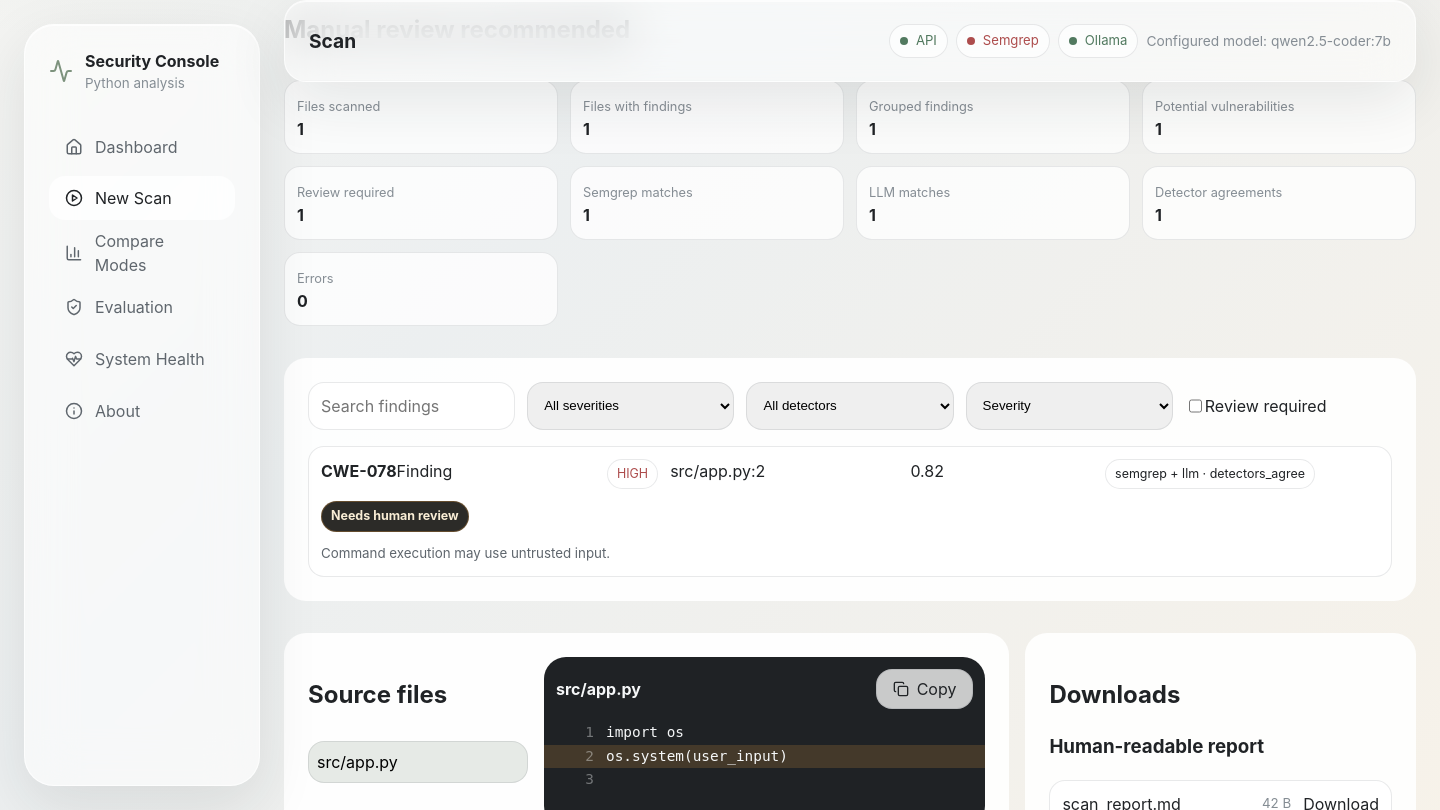
Test: Scan progress and results › fetches completed results, filters findings, opens drawer, and shows artifacts/source safely
The image size is (1440, 810).
(page scrolled)
Expected: the heading "Manual review recommended" is shown, [284,14,630,44]
Expected: the text "Grouped findings" is shown, [869,98,974,114]
Type "command" into the field labelled "Search findings" at [412, 406], box [308,382,515,430]
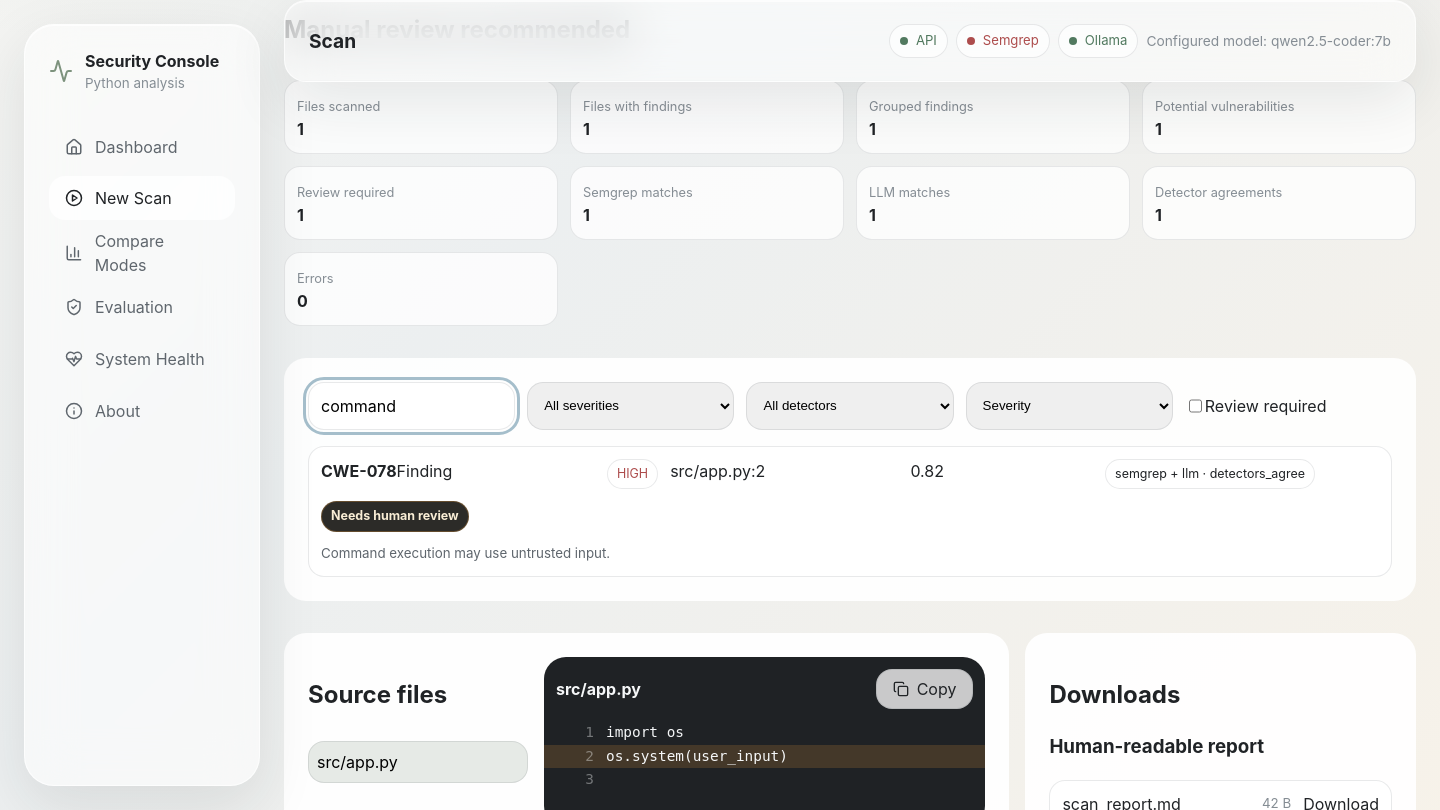
Click the button "CWE-078" at [359, 471], box [308,446,1392,577]
(page scrolled)
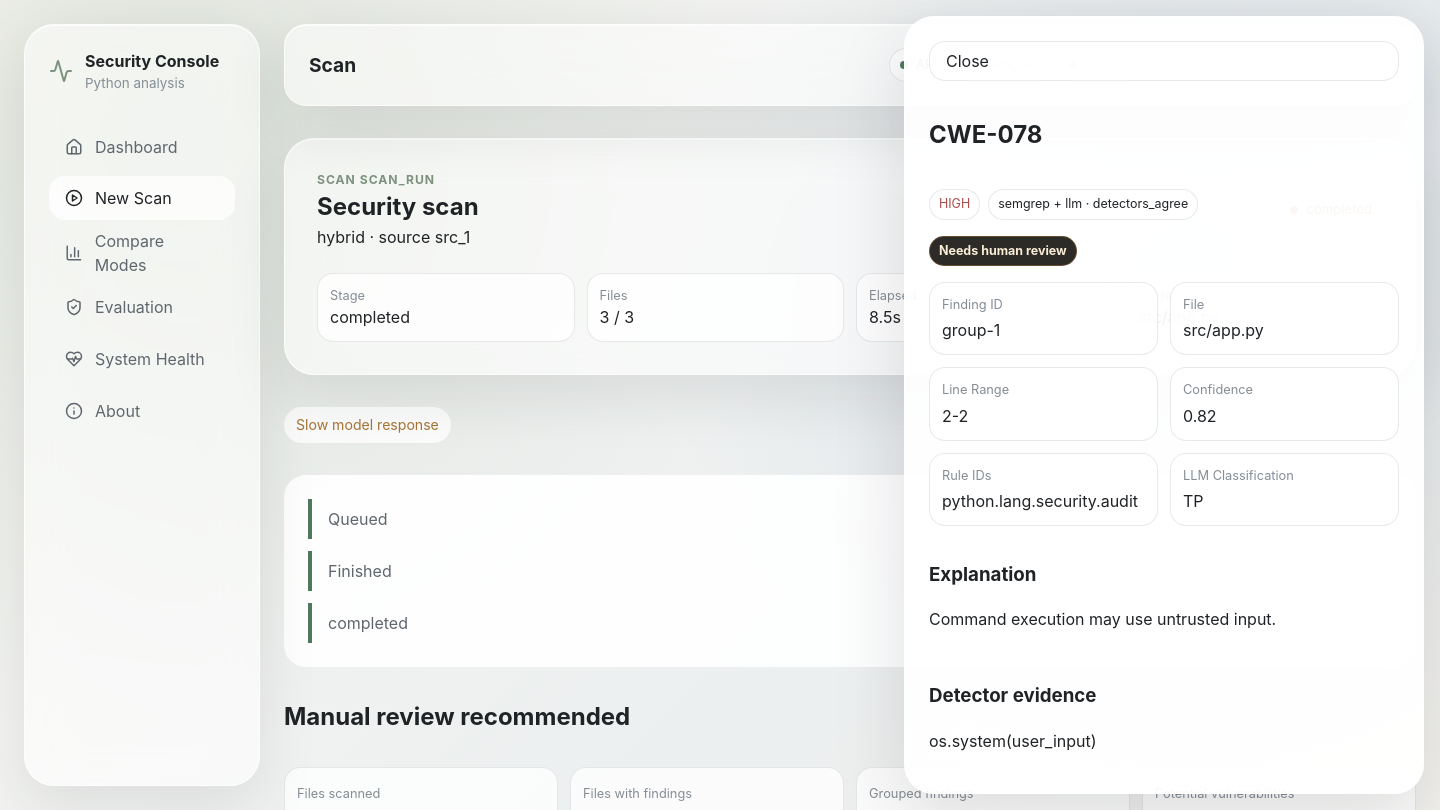
Expected: the text "src/app.py" below "Current file" is shown, [1138,307,1219,327]
Expected: the dialog named "Finding details" is shown, [904,16,1424,794]
